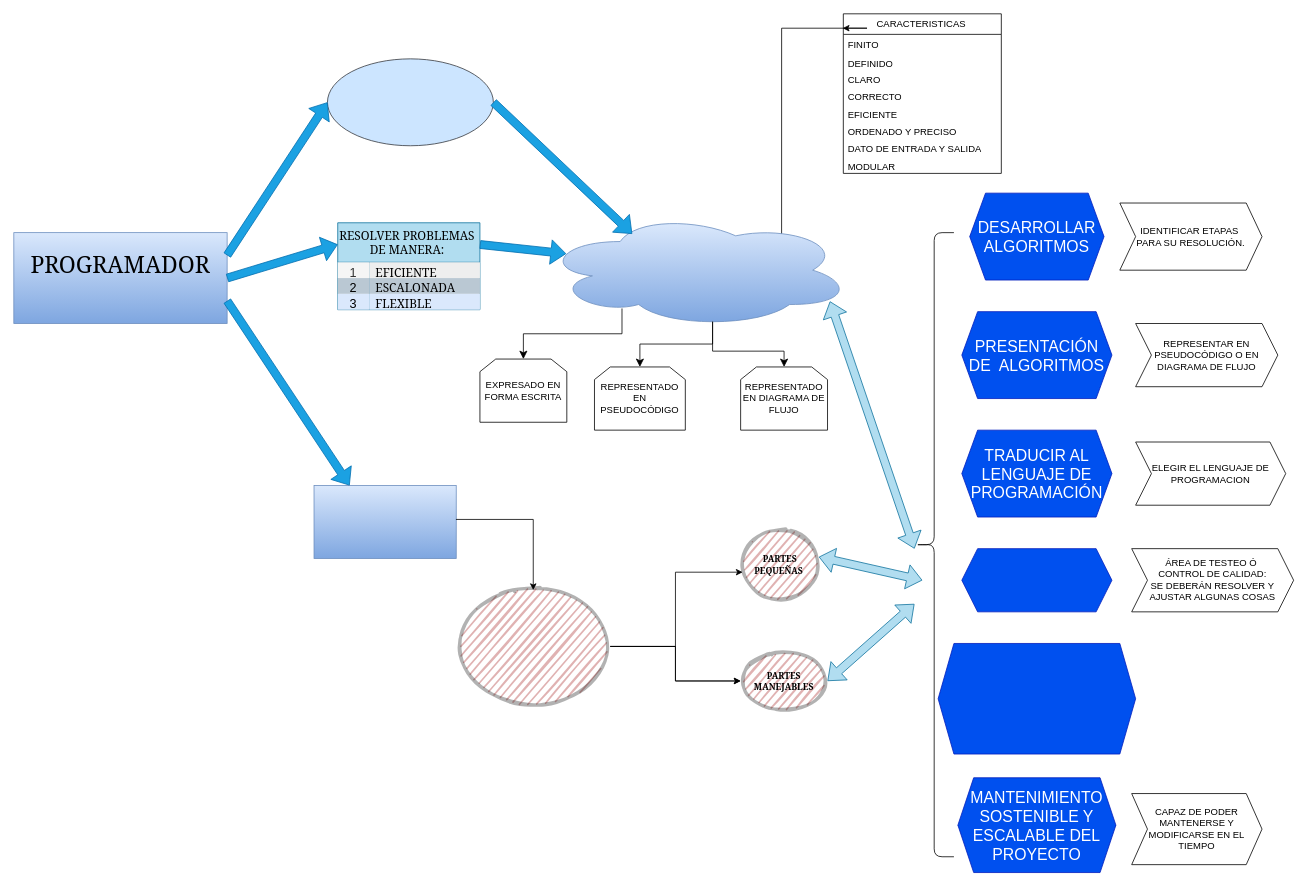
Some shapes in this 1307 by 886 pixel diagram are drawn without their labels. The shapes that lost their labels are listed below. From the top down, each one's centre as x and y in pixels, then its label:
At pixel 410 102: "PENSAMIENTO LÓGICO PARA RESOLVER PROBLEMAS".
At pixel 696 269: "ALGORITMO Secuencia de pasos bien definidos para resolver problemas.".
At pixel 384 522: "Es crucial comprender bien cuál es el PROBLEMA.".
At pixel 1036 580: "EJECUCION Y DEPURACION".
At pixel 532 646: "DIVIDIR EN PARTES AL PROBLEMA.".
At pixel 1036 698: "PROYECTO LISTO PARA SER LANZADO".
